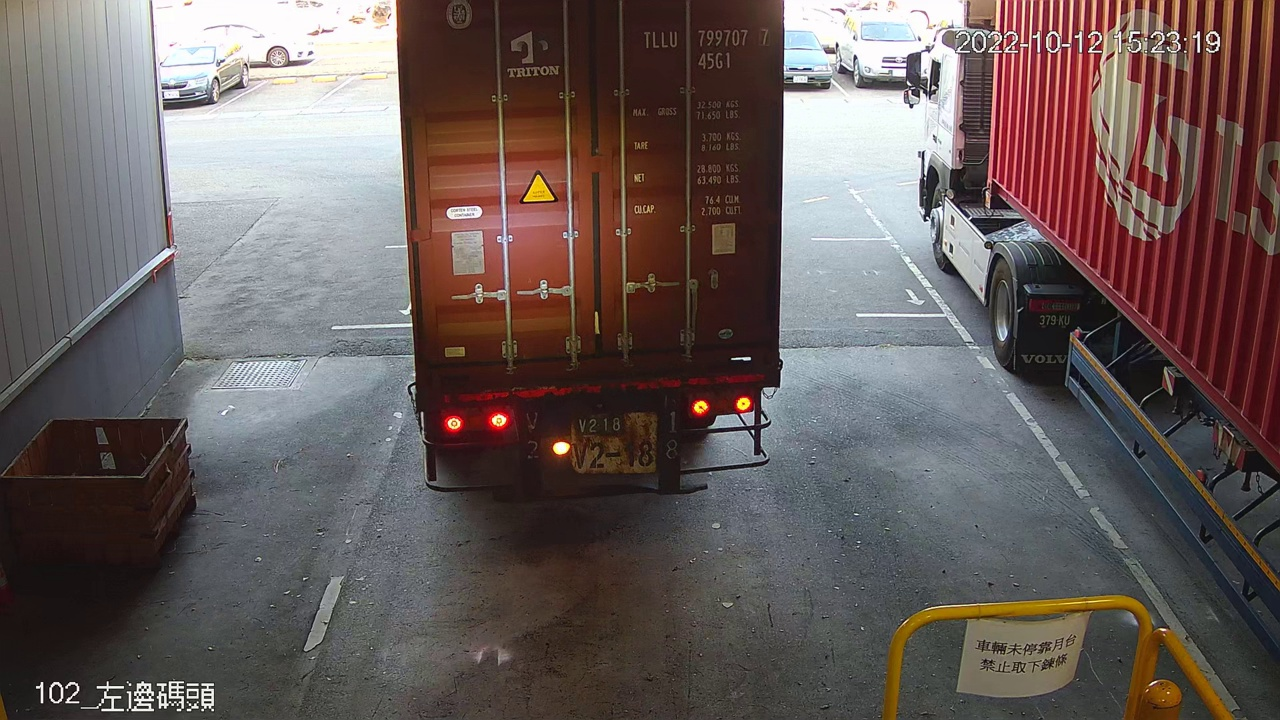container: (633, 21, 778, 75)
